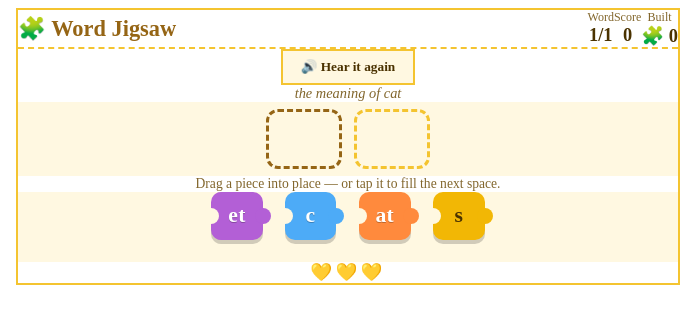
Word Jigsaw: playing it › builds the word from pieces tapped in order
Click the button named "Piece: c" at (311, 216), box [285,192,336,240]
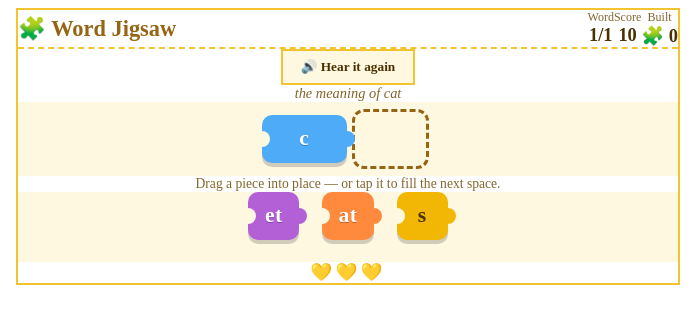
Result: the element named "Space 1 of 2: c" is shown at [262,112,347,166]
Click the button with aria-label "Piece: at" at (348, 216), box [322,192,374,240]
Wait 1800 ms
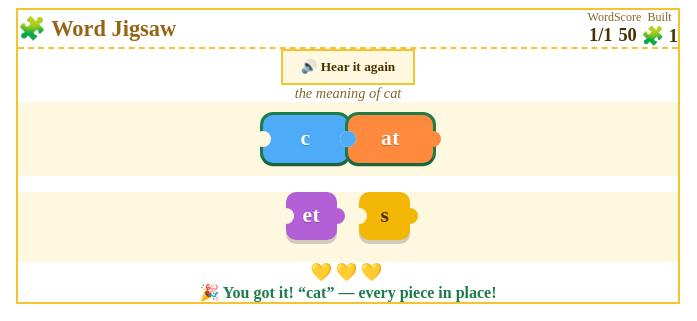
Result: the text "🎉 You got it! “cat” — every piece in place!" is shown at [200,284,497,301]
